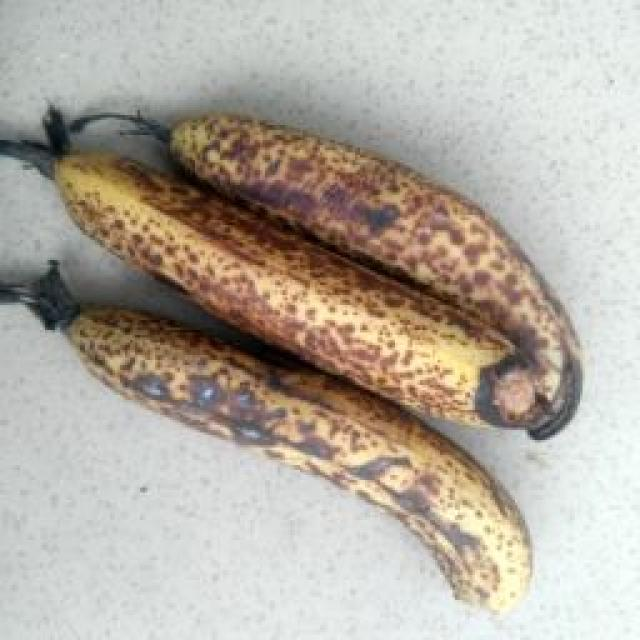banana: (135, 65, 608, 516)
